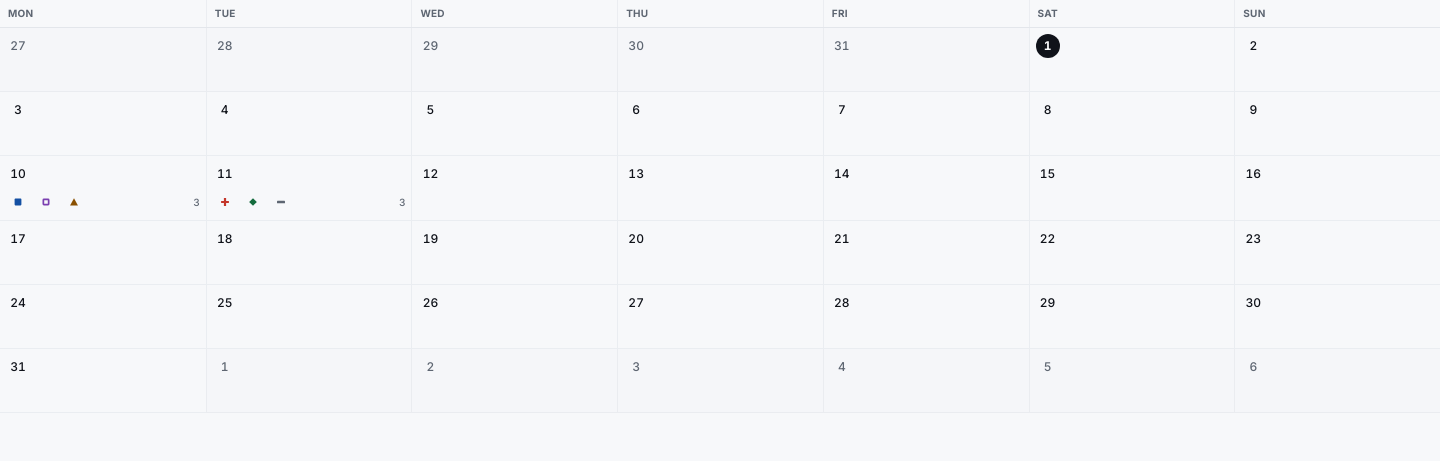
Test case: MonthGrid — direct manipulation › restores the row AND says why when the move fails — never a silent revert
The width and height of the screenshot is (1440, 461).
Press the mouse on the 1st button at (18, 202), box left=6, top=190, right=30, bottom=214
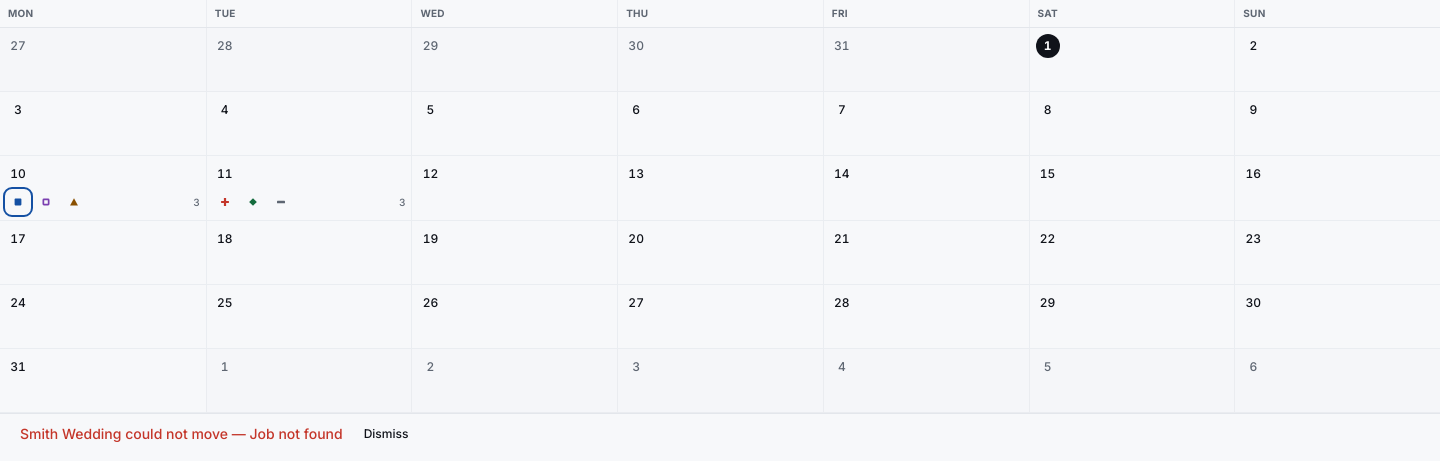
Check: the text "Smith Wedding could not move — Job not found" is shown, box left=20, top=424, right=343, bottom=444
